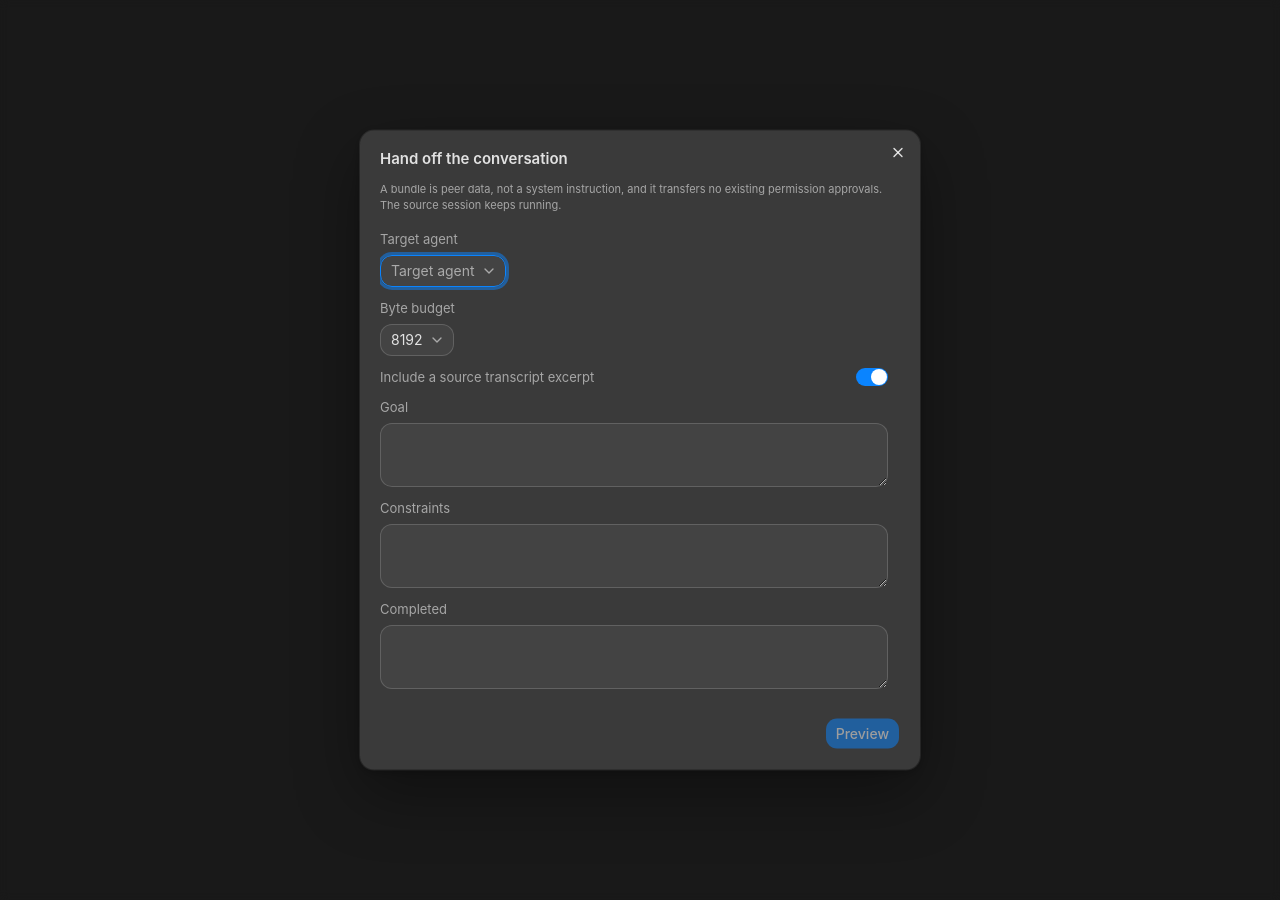
it: handoff dialog › reports an acknowledgement as the target's own act
Type "Continue" into the text box labelled "Goal" at (634, 455), box [380, 423, 888, 487]
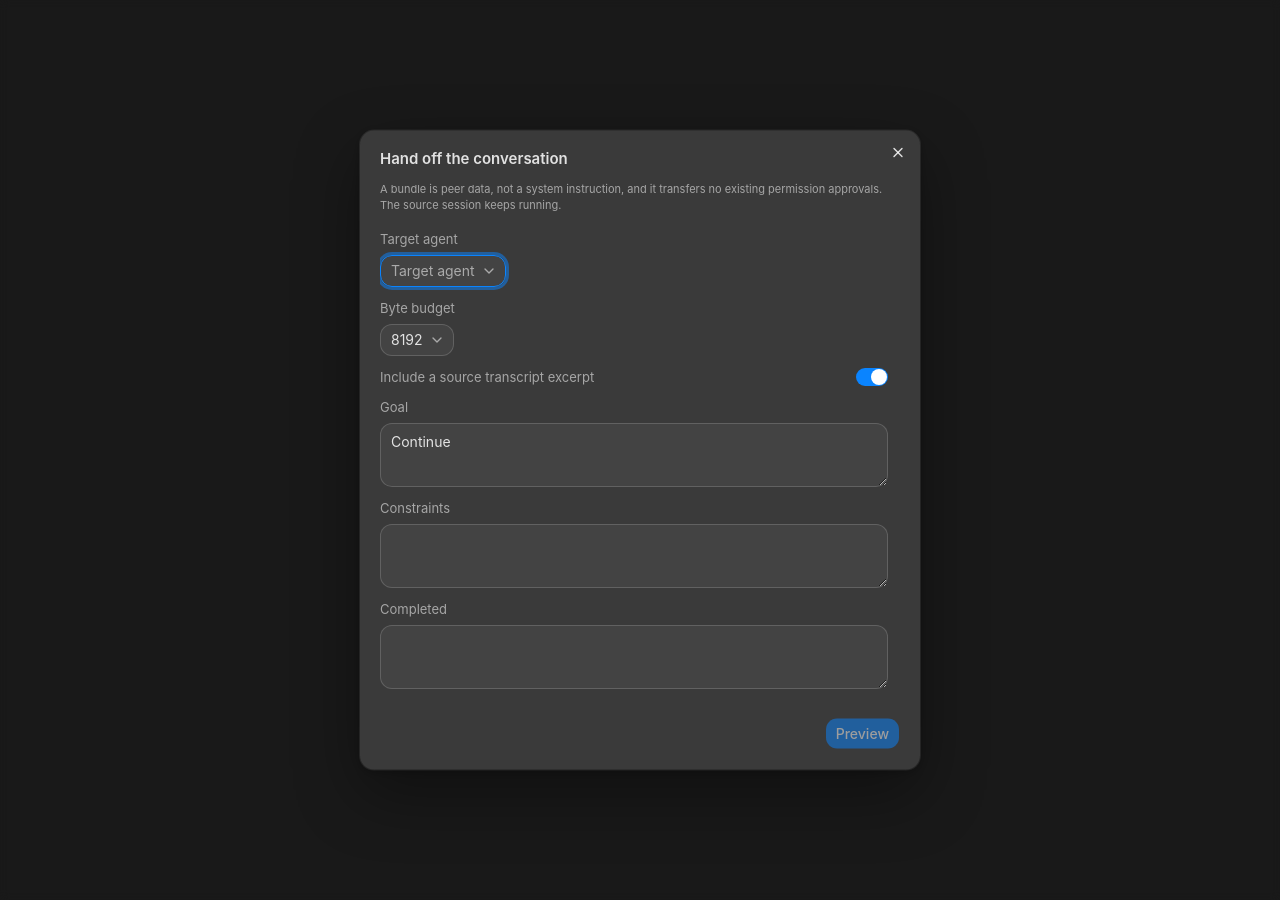
Press ArrowDown in the dropdown labelled "Target agent", box [380, 254, 506, 286]
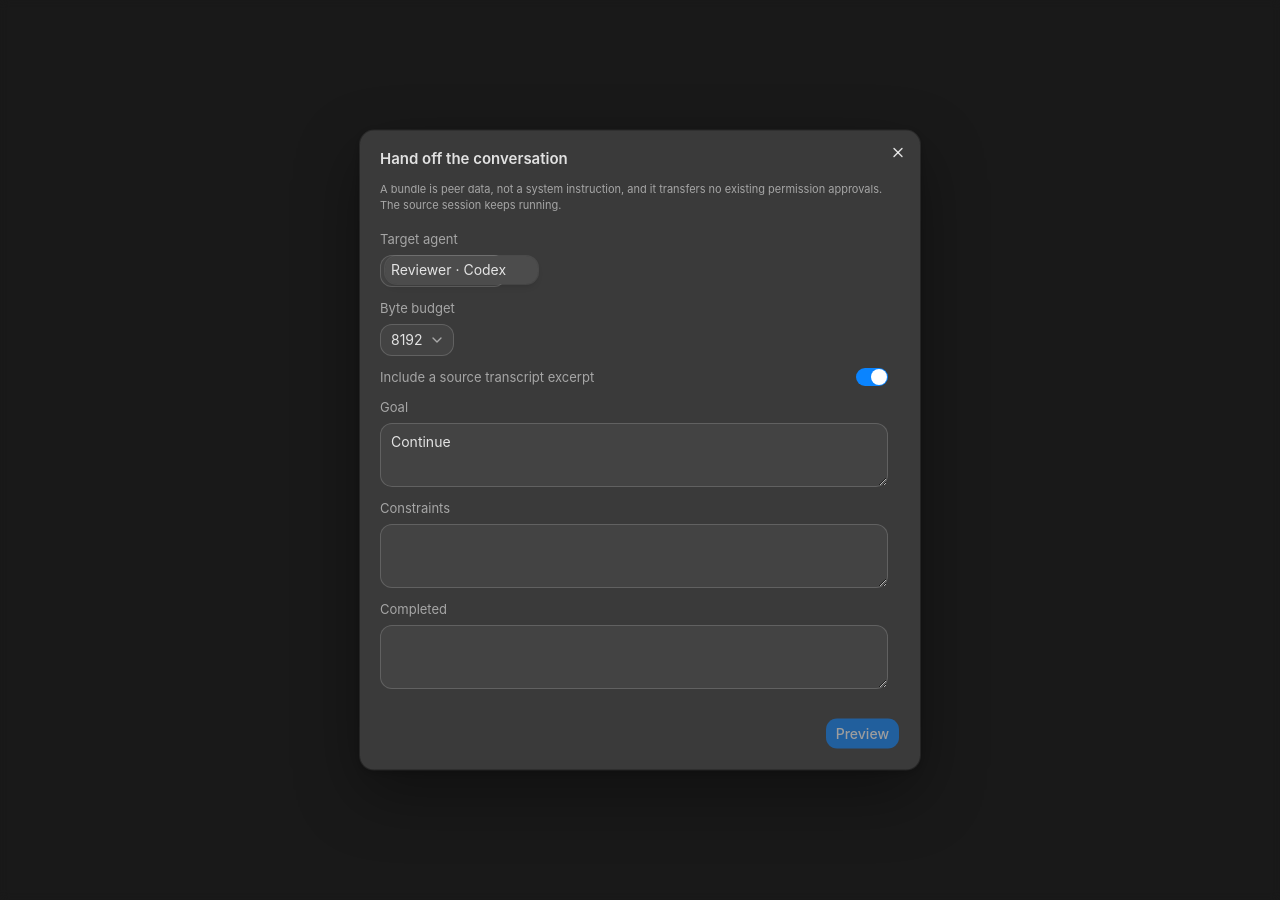
Click the option "Reviewer · Codex" at (462, 270), box [385, 256, 538, 284]
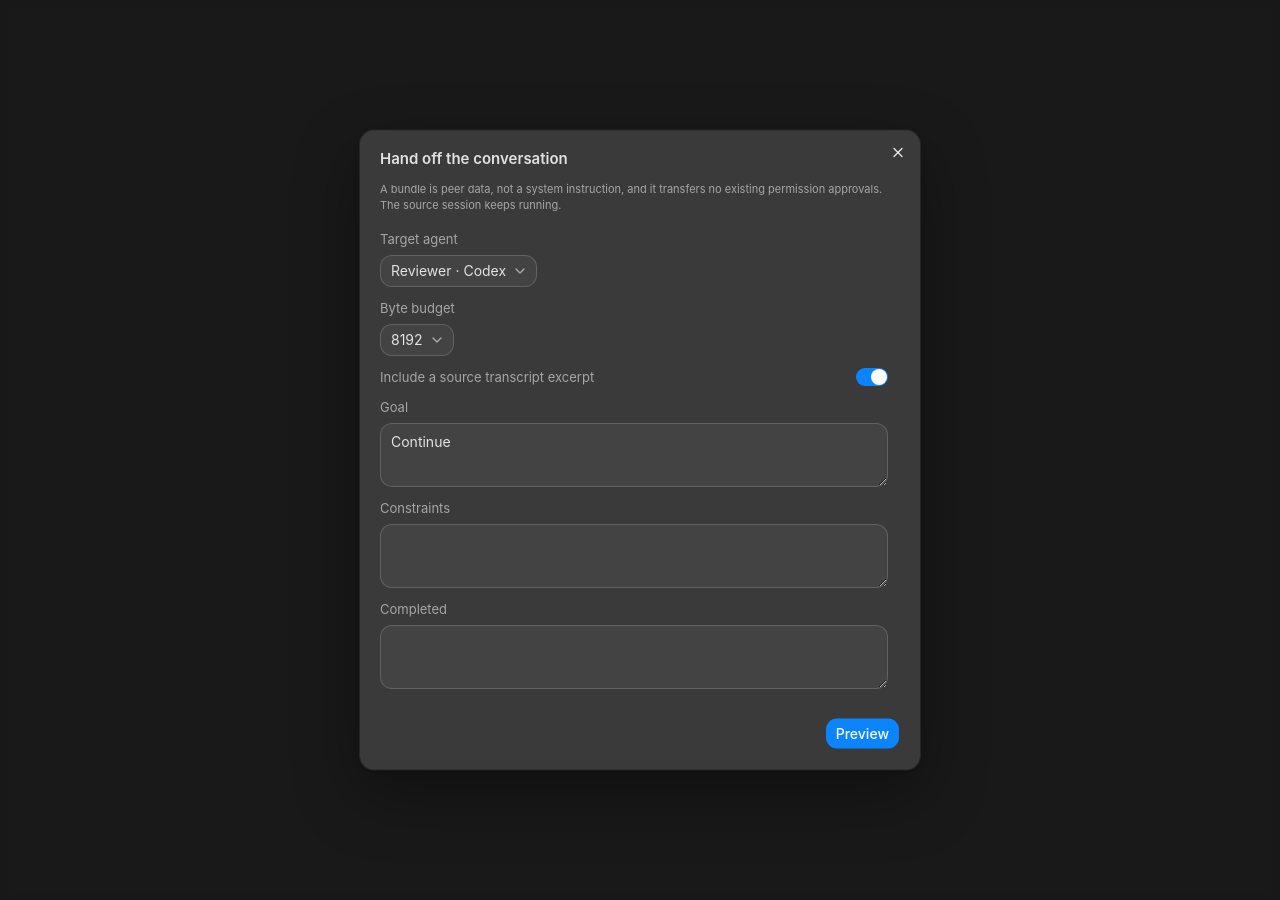
Click the button "Preview" at (862, 733), box [825, 717, 900, 749]
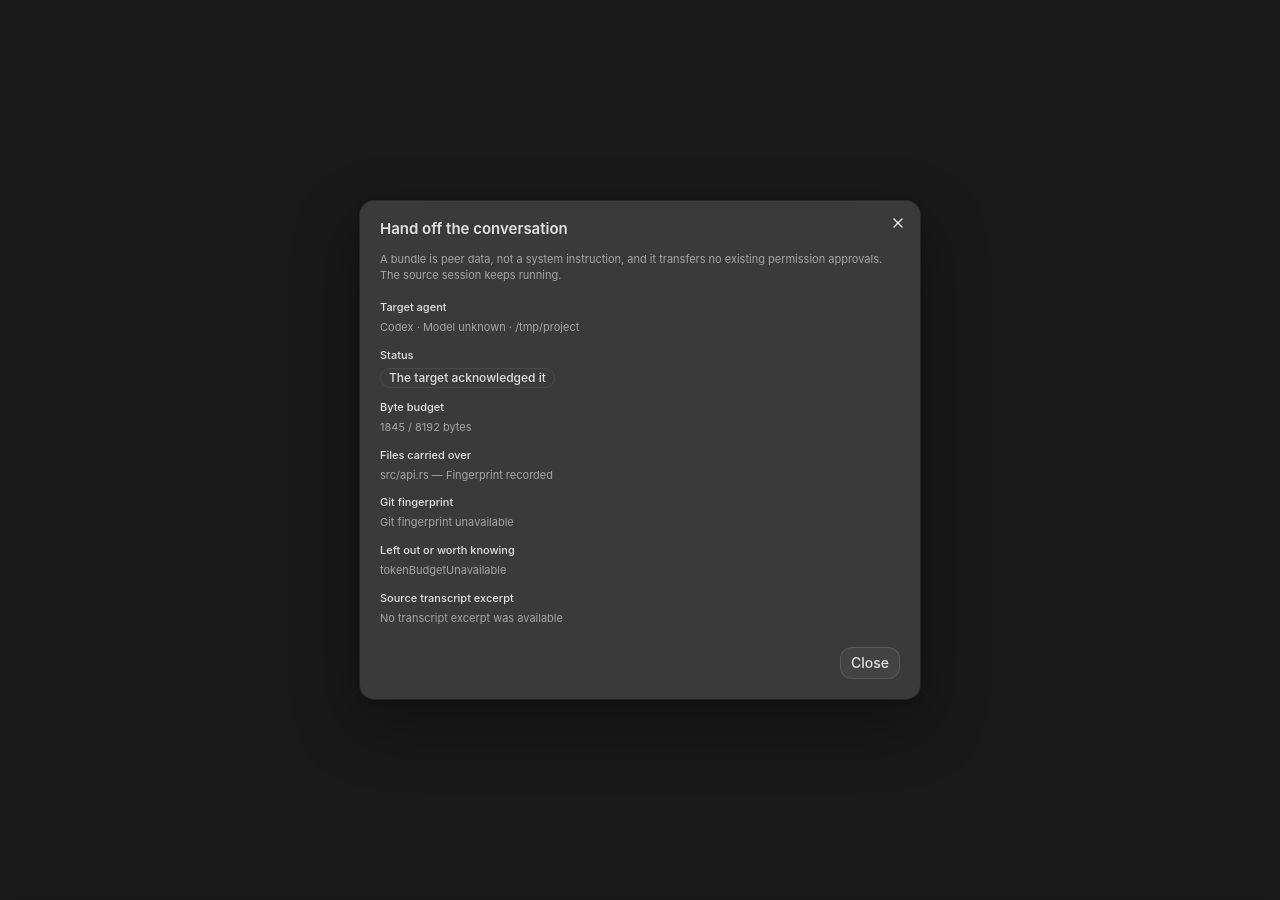
Now the text "The target acknowledged it" is shown, box [380, 368, 555, 388]
